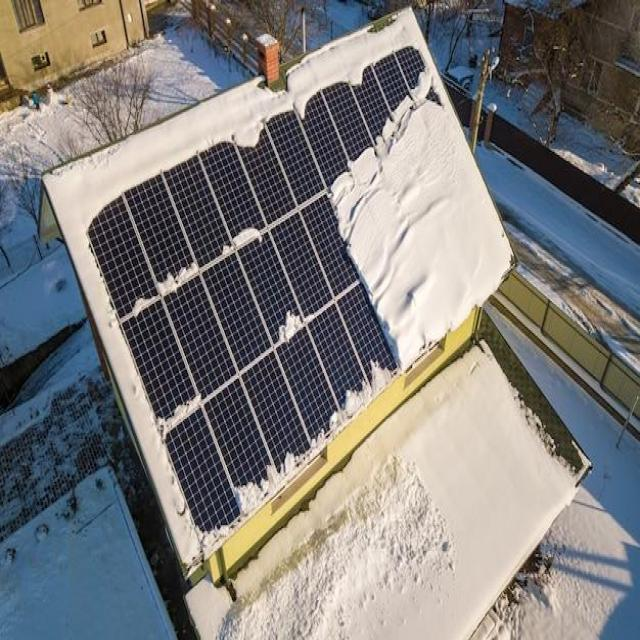Snow: (330, 73, 512, 370), (206, 216, 280, 262), (225, 462, 287, 516), (146, 393, 210, 438), (144, 259, 210, 299), (276, 425, 324, 470), (354, 352, 398, 397), (327, 387, 365, 432), (120, 290, 164, 322), (273, 310, 305, 348), (195, 521, 227, 550)
